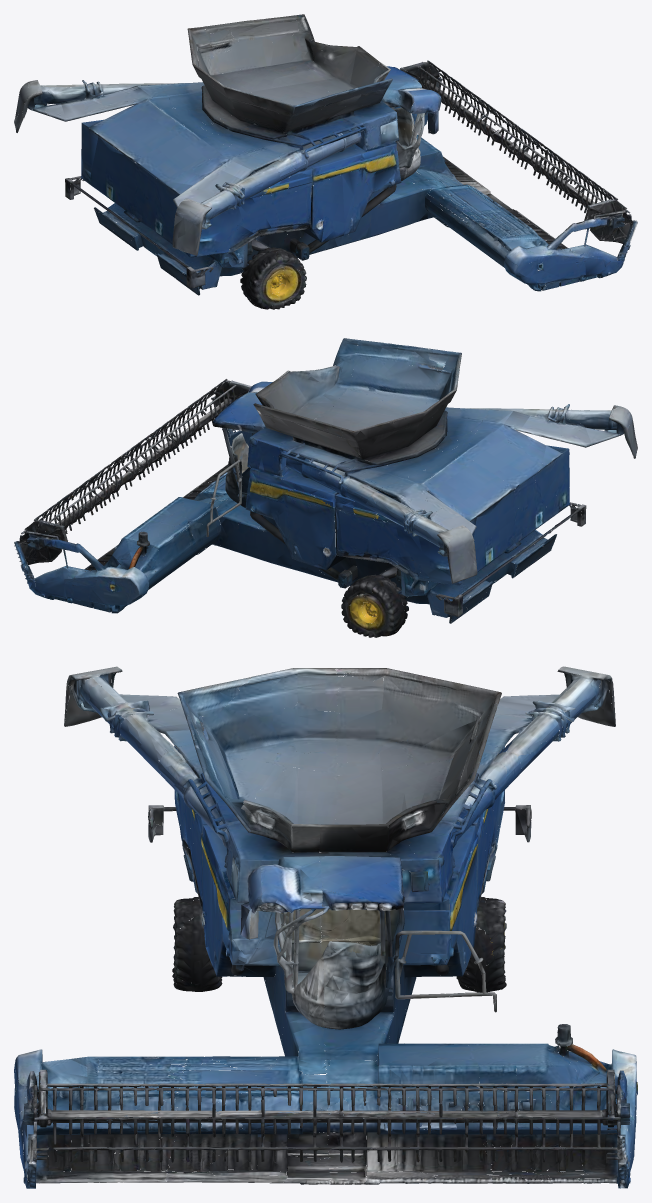
The model's file is cosechadora_azul.glb.
The picture shows the model from 3 angles, top to bottom: view 1: azimuth 30°, elevation 25°; view 2: azimuth 150°, elevation 25°; view 3: azimuth 270°, elevation 25°; orthographic projection. The views are drawn at different scales.
Parts seen in each view (by area): view 1: cosechadora; view 2: cosechadora; view 3: cosechadora.
Boxes of the visible parts, box(x1,y1,x2,y2) form: cosechadora: box(14, 14, 637, 309); cosechadora: box(14, 338, 637, 637); cosechadora: box(14, 666, 637, 1188).
Size of the model in its own units: 7.44 by 3.22 by 6.02.
Materials: 1 (1 with a texture image).
